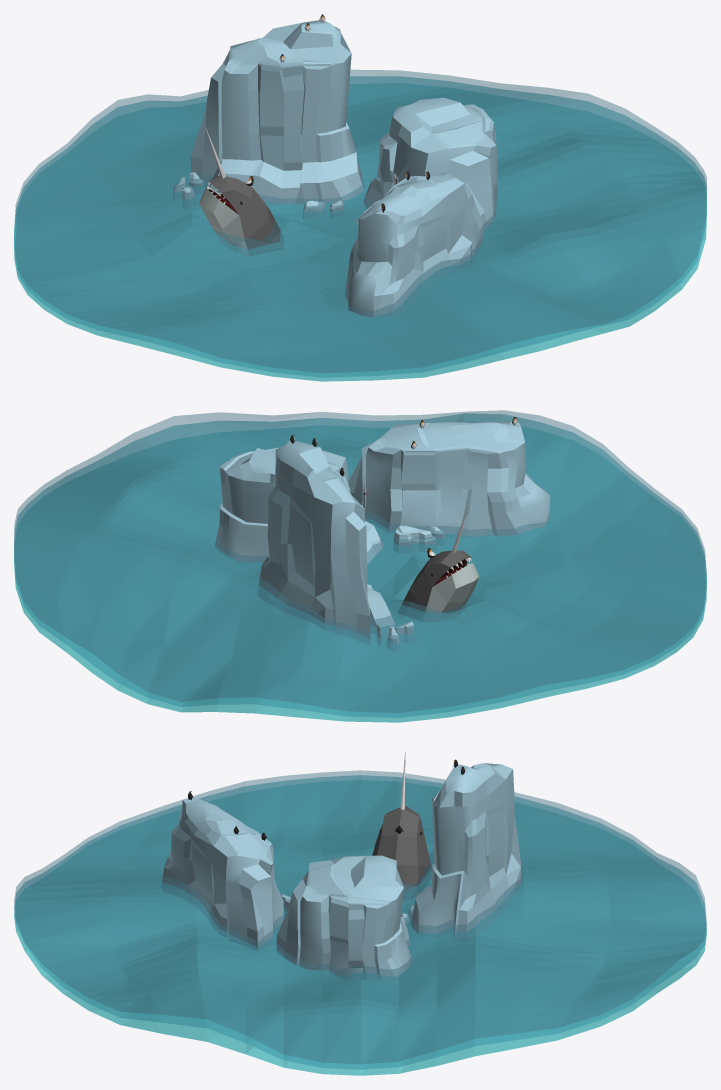
File: MatheusKohatsu_IceEnvironment.fbx
3 views of the same model, one above another, from view 1: azimuth 30°, elevation 25°; view 2: azimuth 150°, elevation 25°; view 3: azimuth 270°, elevation 25° (orthographic). The views are drawn at different scales.
Visible parts, largest first — view 1: Sea_LayerTop, Sea_LayerMid, Sea_LayerLow, IcebergL, IcebergR, IcebergMain, Narwhal_Body; view 2: Sea_LayerTop, Sea_LayerMid, Sea_LayerLow, IcebergR, IcebergL, IcebergMain, Narwhal_Body, IceChunk01; view 3: Sea_LayerTop, Sea_LayerMid, Sea_LayerLow, IcebergL, IcebergMain, IcebergR, Narwhal_Body.
Part boxes in pixels (x1,y1,x2,y2): Sea_LayerTop: [15, 69, 706, 373]; Sea_LayerMid: [14, 76, 706, 377]; Sea_LayerLow: [14, 83, 706, 381]; IcebergL: [190, 20, 364, 203]; IcebergR: [345, 172, 483, 317]; IcebergMain: [353, 97, 497, 230]; Narwhal_Body: [199, 175, 283, 255]; Sea_LayerTop: [14, 410, 705, 712]; Sea_LayerMid: [14, 413, 706, 717]; Sea_LayerLow: [14, 421, 706, 722]; IcebergR: [349, 421, 550, 537]; IcebergL: [258, 440, 395, 644]; IcebergMain: [215, 447, 384, 563]; Narwhal_Body: [398, 550, 478, 621]; IceChunk01: [393, 525, 436, 553]; Sea_LayerTop: [14, 770, 706, 1064]; Sea_LayerMid: [14, 775, 706, 1069]; Sea_LayerLow: [14, 780, 706, 1075]; IcebergL: [411, 763, 520, 941]; IcebergMain: [276, 855, 412, 979]; IcebergR: [161, 797, 283, 950]; Narwhal_Body: [372, 805, 431, 900].
Size of the model in its own units: 6811 by 1927 by 6702.
